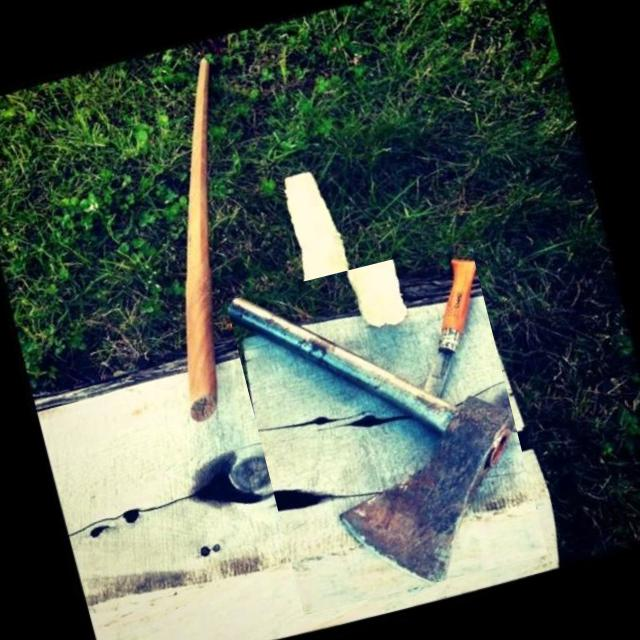Axe: (229, 298, 515, 582)
Knife: (230, 311, 336, 425)
